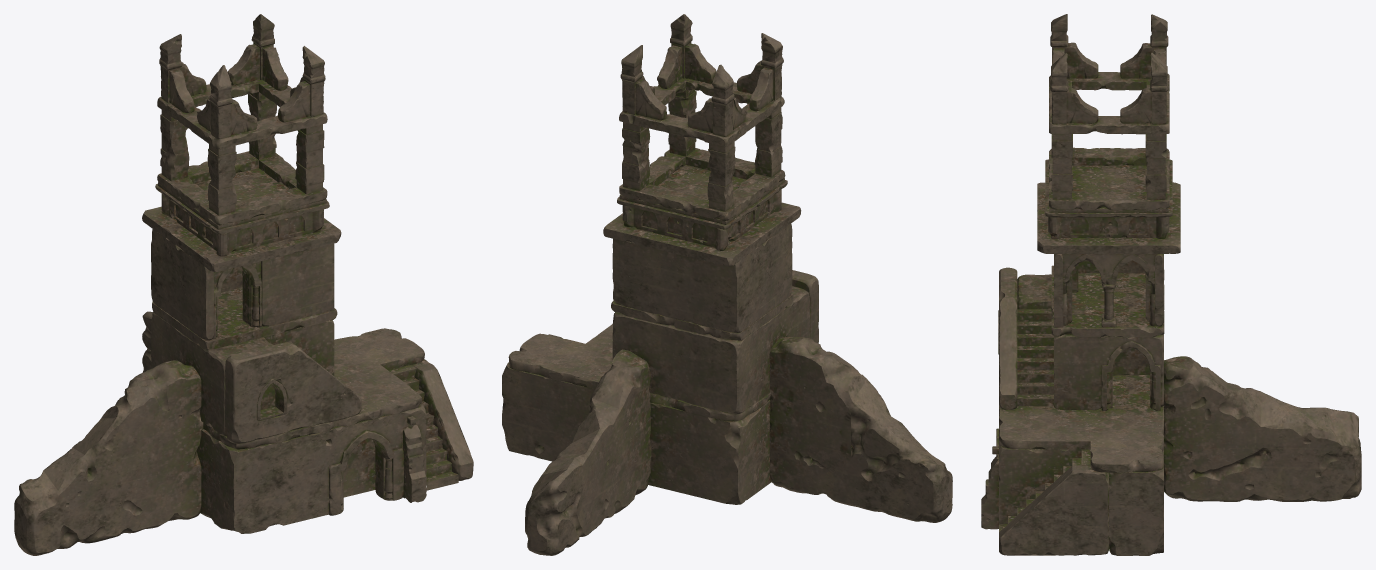
Rendered from RuinedTower (1).fbx.
3 renders of one model, left to right at view 1: azimuth 30°, elevation 25°; view 2: azimuth 150°, elevation 25°; view 3: azimuth 270°, elevation 25°, orthographic. The views are drawn at different scales.
Visible parts, largest first — view 1: Old_Ruin_Tower; view 2: Old_Ruin_Tower; view 3: Old_Ruin_Tower.
Boxes of the visible parts, x1,y1,x2,y2 form: Old_Ruin_Tower: [14, 14, 473, 555]; Old_Ruin_Tower: [502, 14, 952, 555]; Old_Ruin_Tower: [981, 14, 1361, 555].
Bounding box in the file's own units: 2322 × 2410 × 1875.
1 material, 1 textured.
